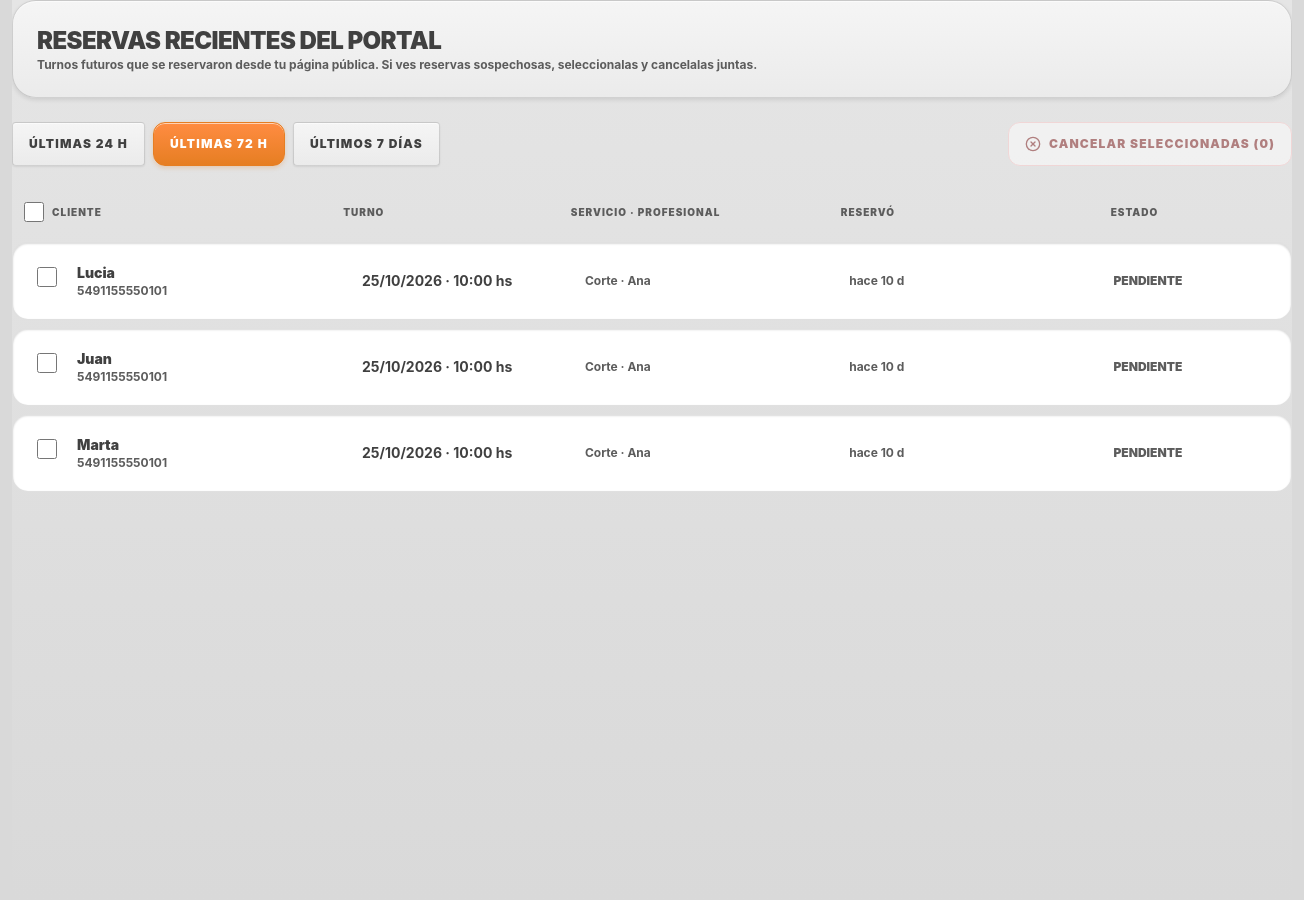
PortalBookingsContainer › confirma con los ids y el motivo, muestra el resultado con cada salteada y limpia la seleccion
Step 1. Click the checkbox named "Seleccionar todas" → (34, 212), box [24,202,44,222]
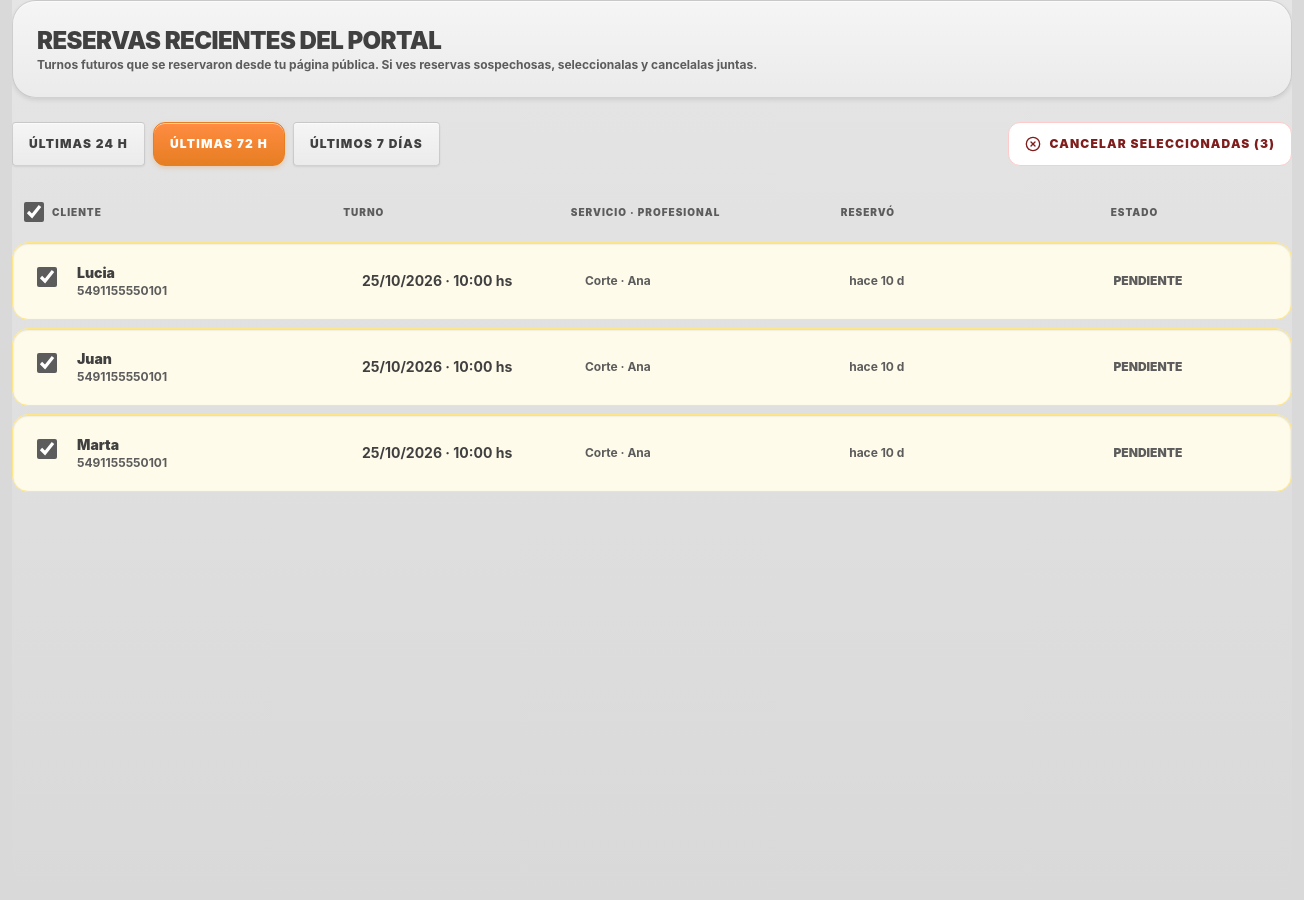
Step 2. Click the button "Cancelar seleccionadas (3)" → (1150, 144), box [1008,122,1292,166]
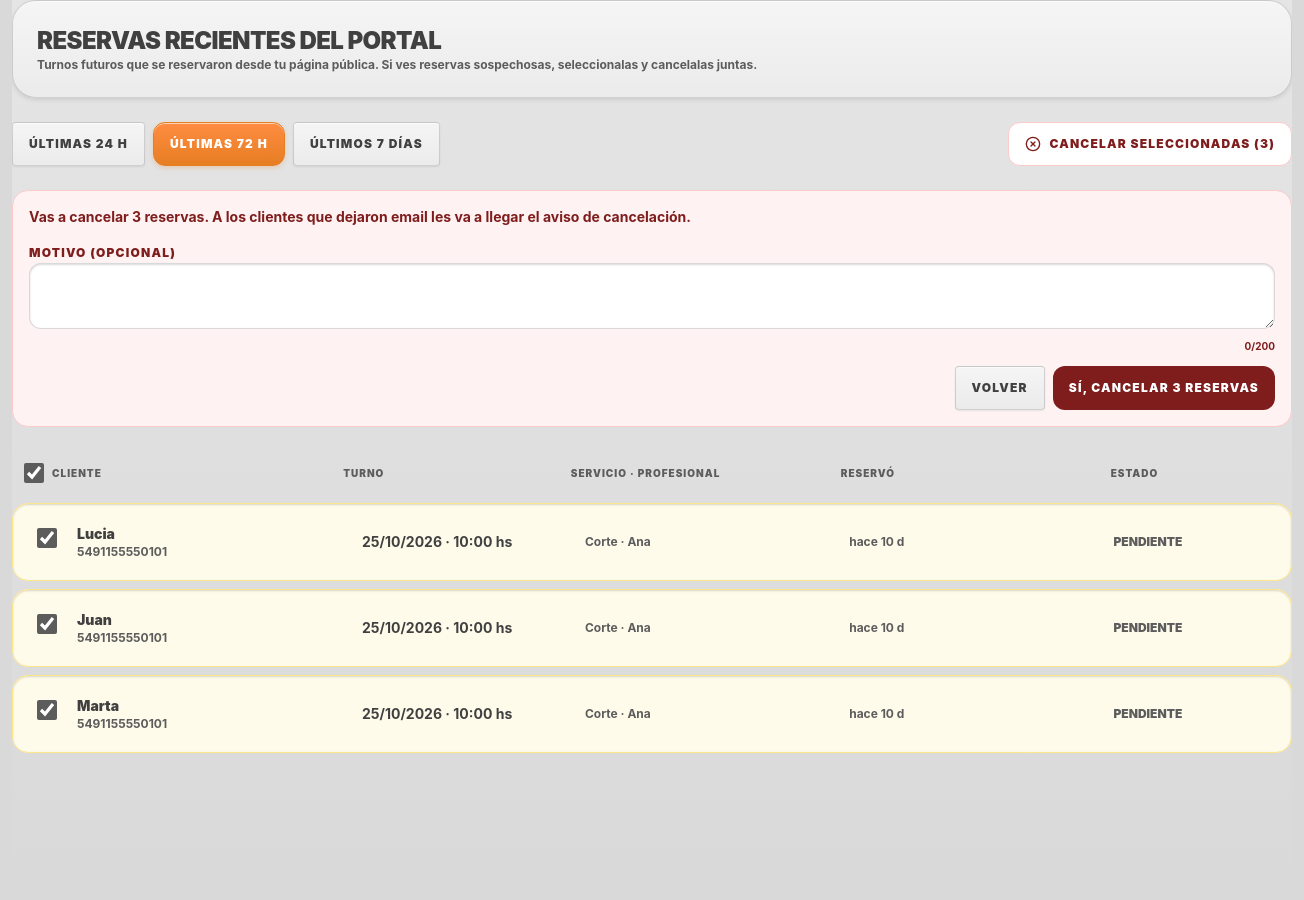
Step 3. Type "Reservas falsas" into the text box labelled "Motivo (opcional)" → (652, 296), box [29,263,1275,329]
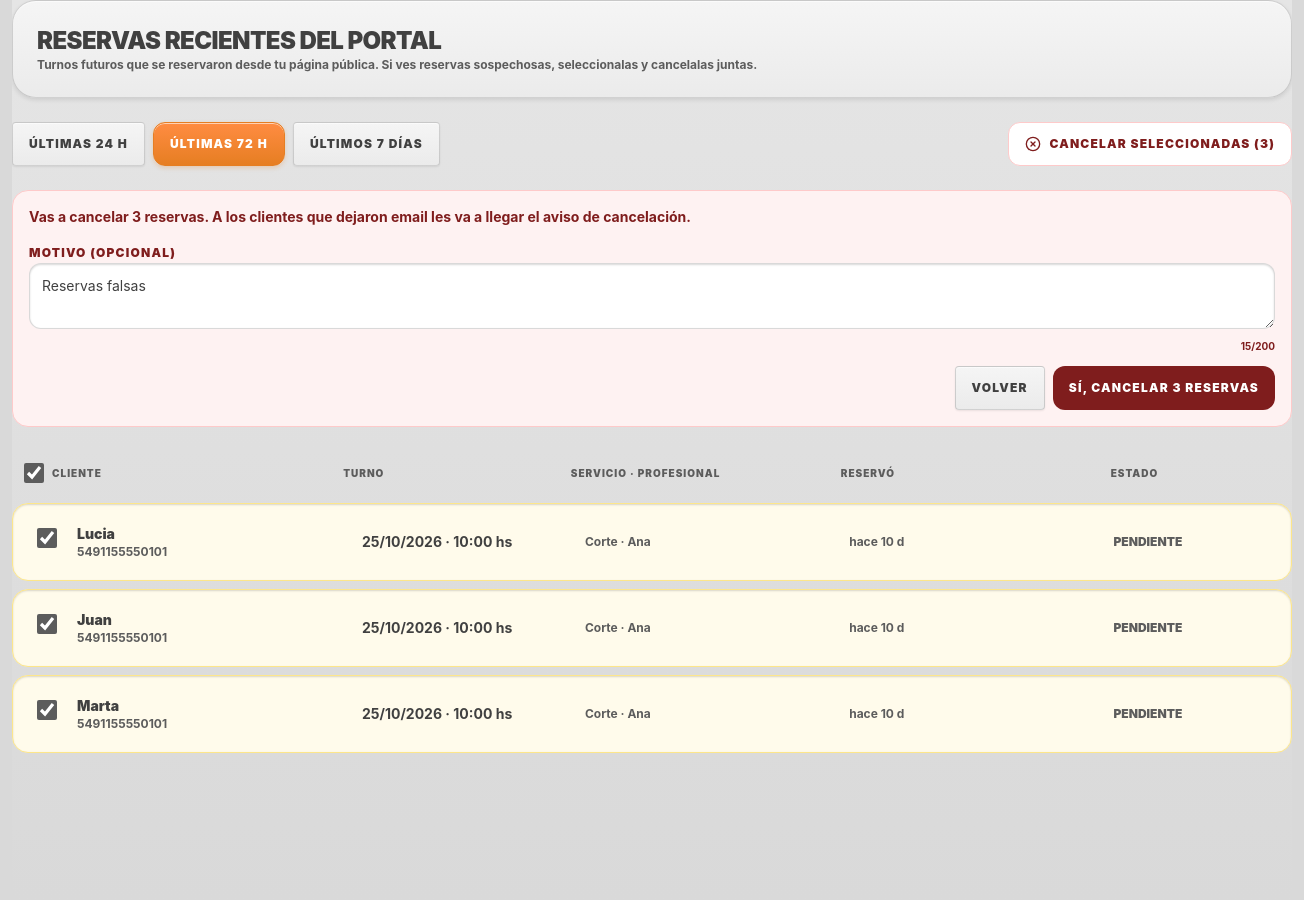
Step 4. Click the button "Sí, cancelar 3 reservas" → (1164, 388), box [1053,366,1275,410]
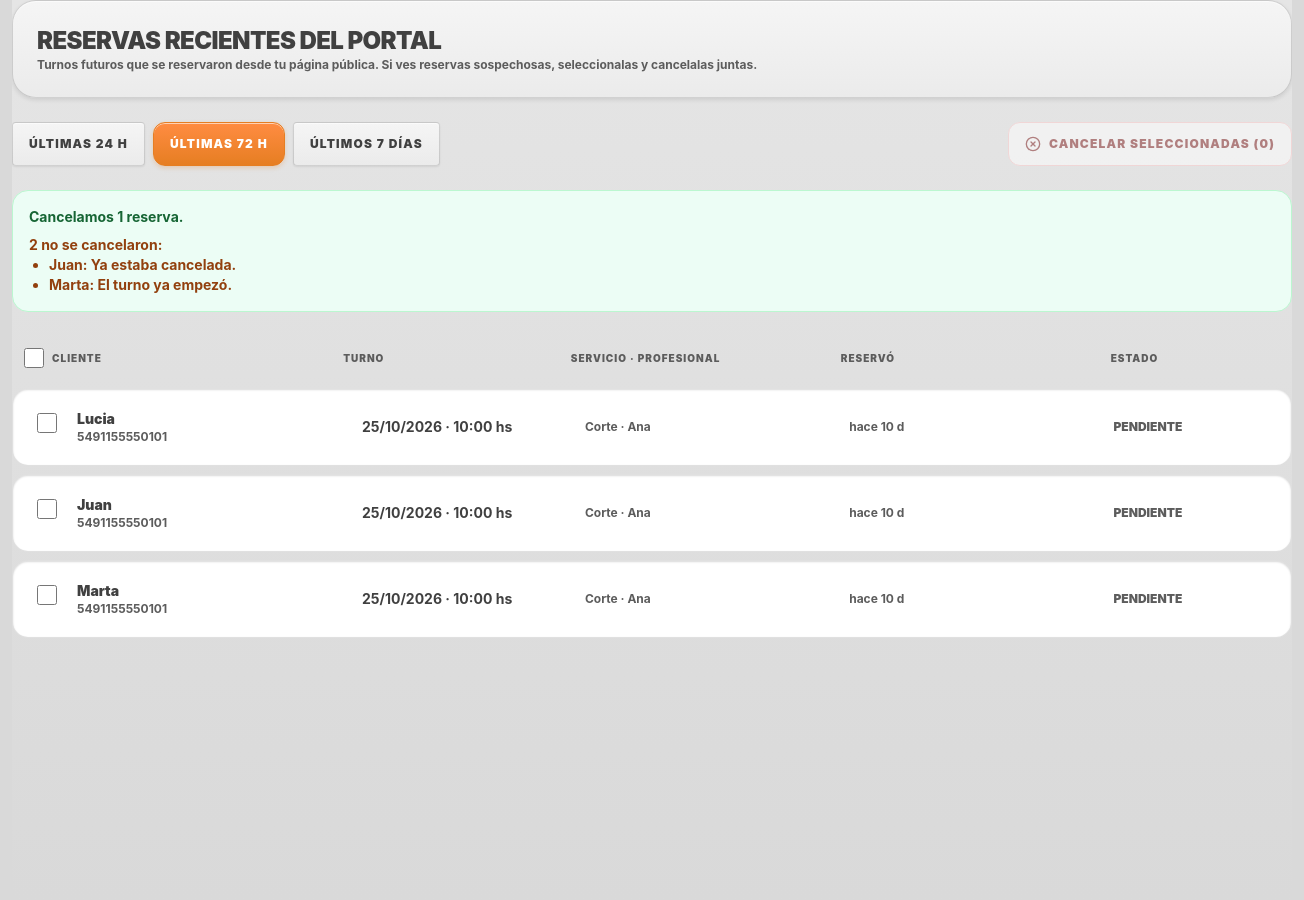
Check: the message shows "Cancelamos 1 reserva.", box [29,208,183,225]
Check: the message shows "Juan: Ya estaba cancelada.", box [49,256,236,273]
Check: the message shows "Marta: El turno ya empezó.", box [49,276,232,293]
